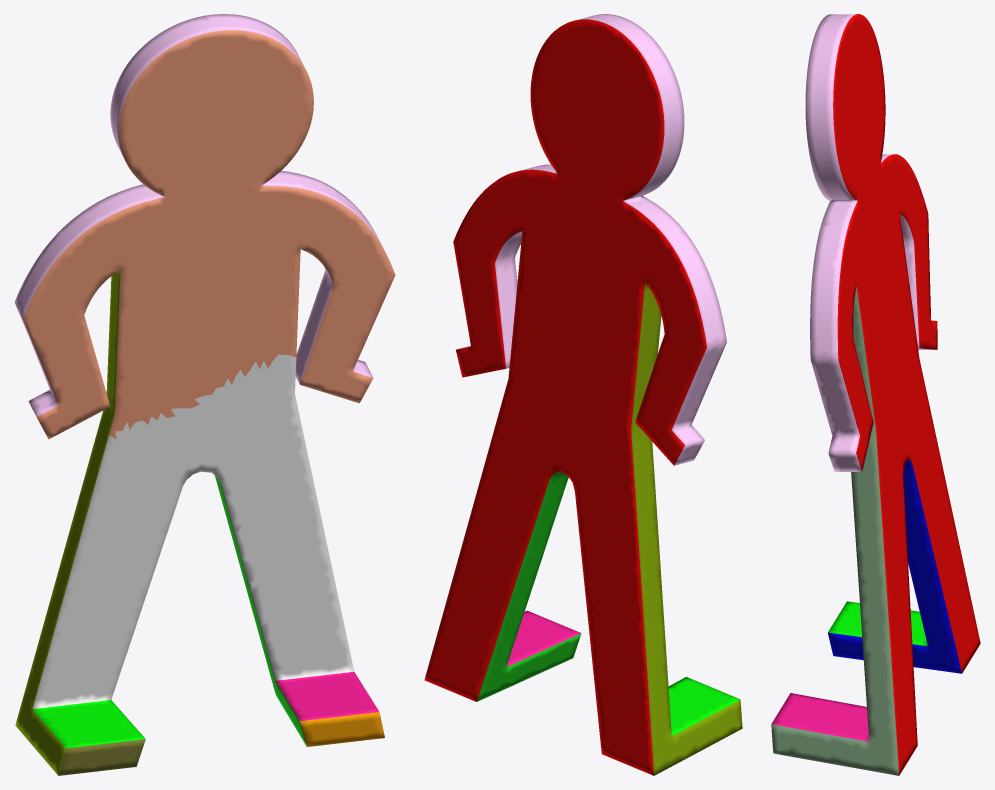
Rendered from model_51_segmented_new.obj.
3 renders of one model, left to right at view 1: azimuth 30°, elevation 25°; view 2: azimuth 150°, elevation 25°; view 3: azimuth 270°, elevation 25°, orthographic. The views are drawn at different scales.
Size of the model in its own units: 24.52 by 51.93 by 14.55.
